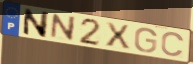2: (79, 18, 103, 47)
C: (160, 31, 186, 58)
G: (133, 27, 159, 54)
N: (22, 7, 50, 39), (49, 13, 78, 42)
X: (105, 21, 132, 50)
